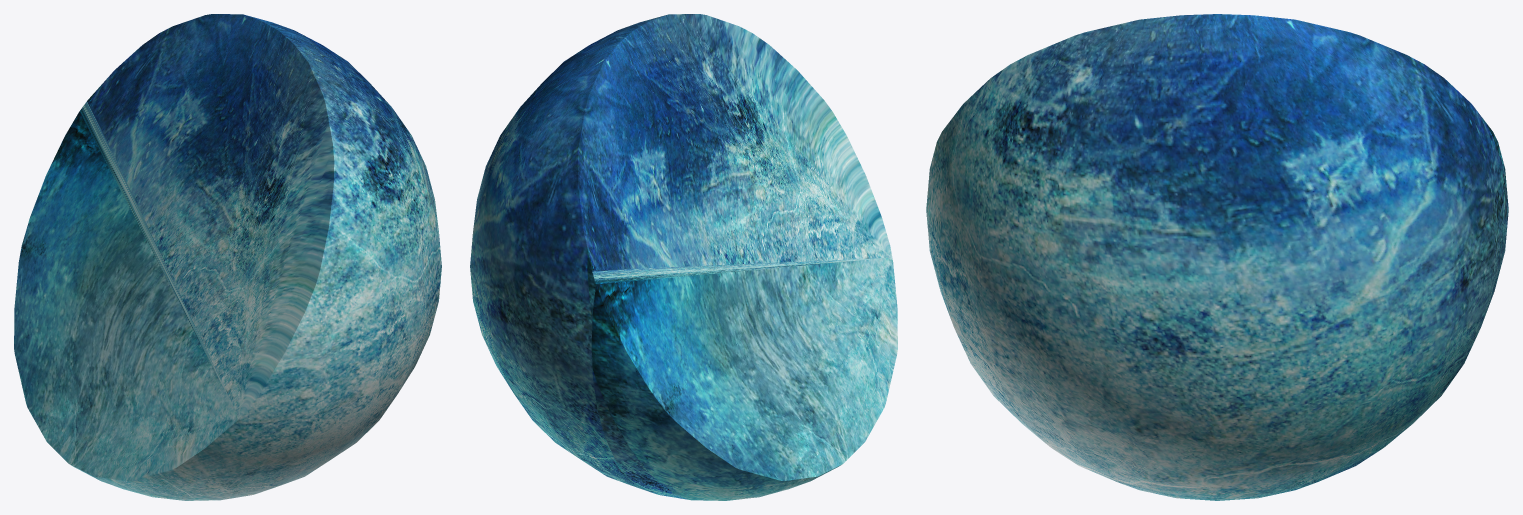
The model's file is planet_half2.fbx.
3 views of the same model, side by side, from view 1: azimuth 30°, elevation 25°; view 2: azimuth 150°, elevation 25°; view 3: azimuth 270°, elevation 25° (orthographic). The views are drawn at different scales.
Visible parts, largest first — view 1: polySurface1; view 2: polySurface1; view 3: polySurface1.
Boxes of the visible parts, x1,y1,x2,y2 form: polySurface1: (14,14,441,500); polySurface1: (470,14,897,500); polySurface1: (926,14,1508,500).
Bounding box in the file's own units: 8.13 × 9.71 × 10.11.
